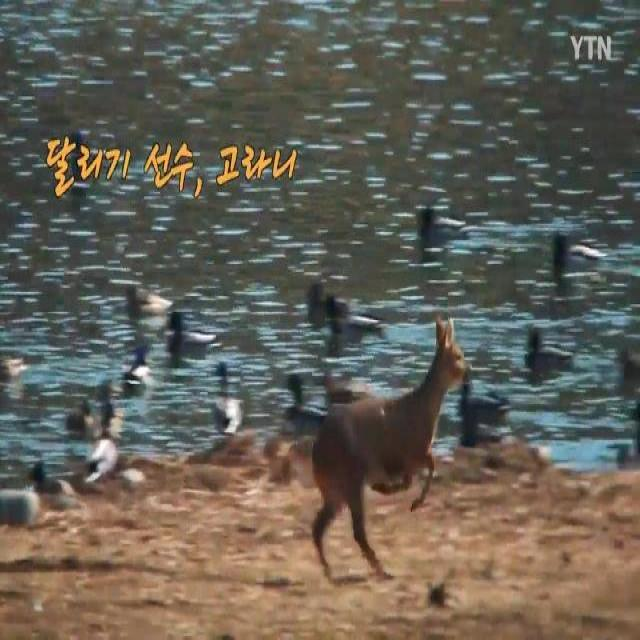deer: (310, 318, 476, 581)
